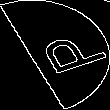P_SW: (14, 28, 96, 82)
